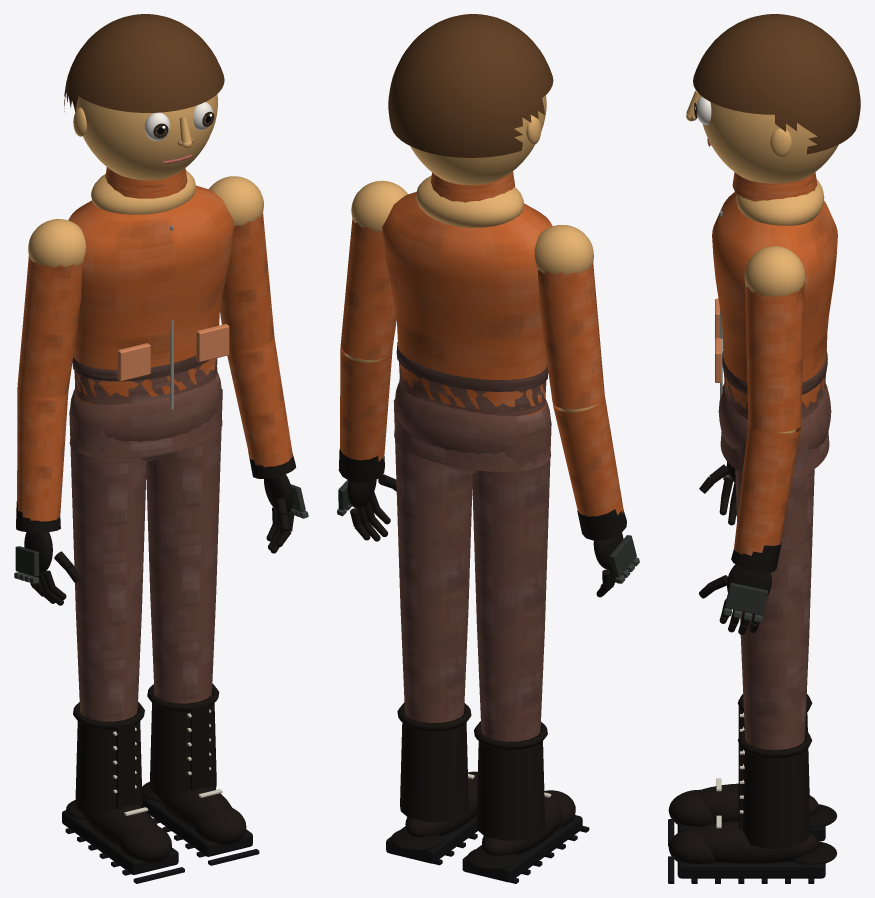
The model's file is 00-jean-droit.glb.
The picture shows the model from 3 angles, left to right: view 1: azimuth 30°, elevation 25°; view 2: azimuth 150°, elevation 25°; view 3: azimuth 270°, elevation 25°; orthographic projection. The views are drawn at different scales.
Size of the model in its own units: 0.6344 by 1.77 by 0.3715.
Materials: 25 (4 with a texture image).
